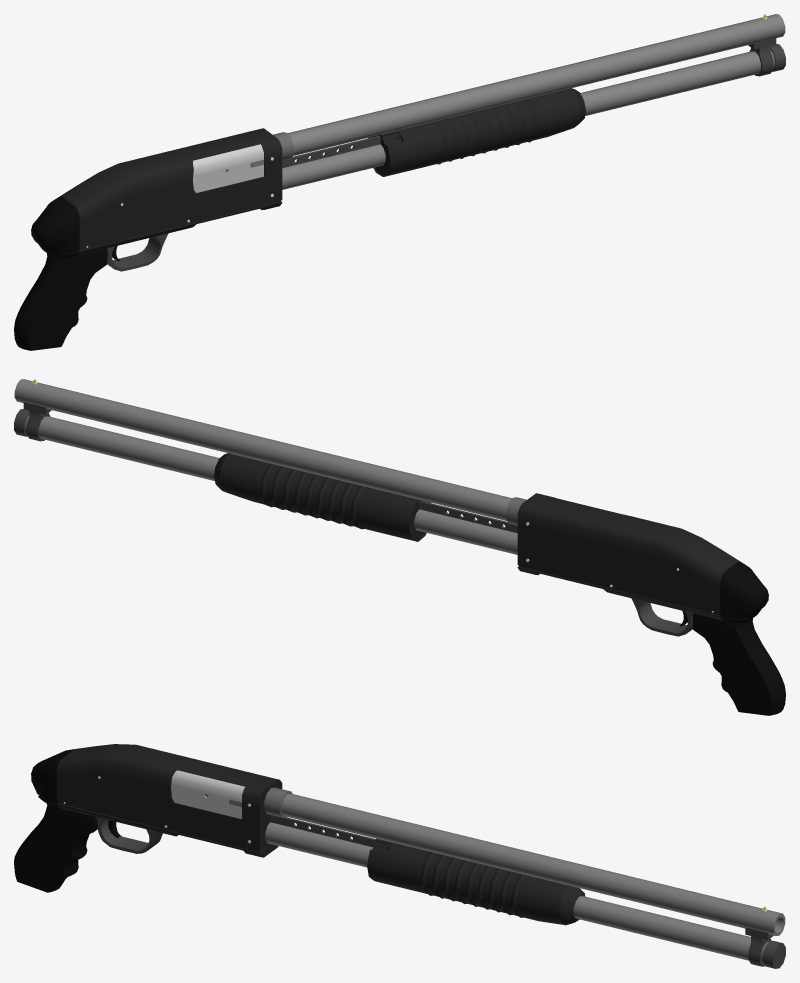
Rendered from Maverick_88_Mesh.fbx.
3 views of the same model, one above another, from view 1: azimuth 30°, elevation 25°; view 2: azimuth 150°, elevation 25°; view 3: azimuth 330°, elevation 25° (orthographic).
Visible parts, largest first — view 1: Maverick_88; view 2: Maverick_88; view 3: Maverick_88.
Part boxes in pixels (x1=…): Maverick_88: x1=14, y1=14, x2=785, y2=350; Maverick_88: x1=14, y1=379, x2=785, y2=715; Maverick_88: x1=14, y1=744, x2=785, y2=968.
Size of the model in its own units: 1.02 by 0.199 by 0.0575.
